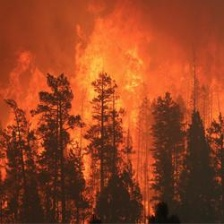fire: (80, 38, 149, 183)
